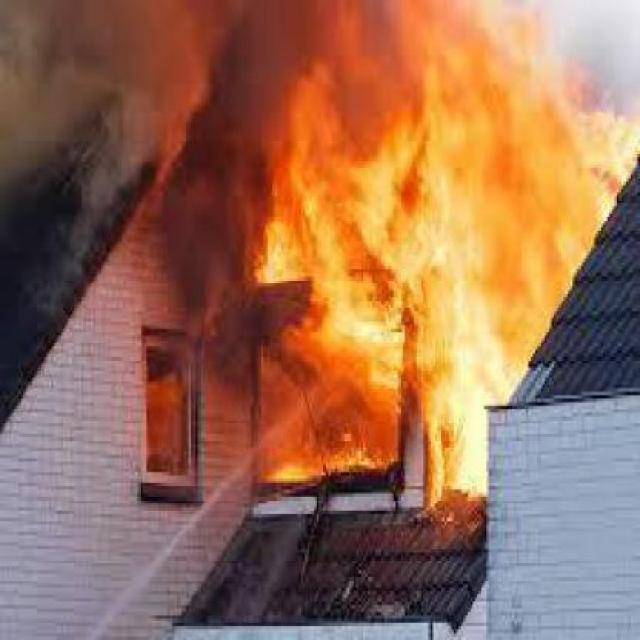fire: (172, 29, 586, 480)
